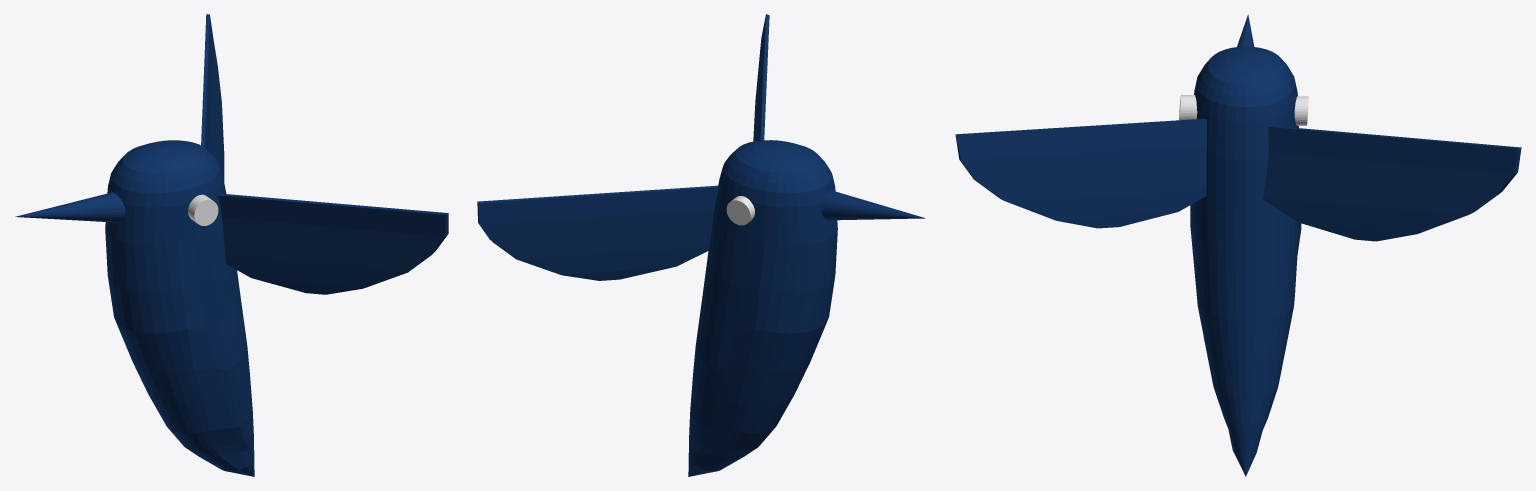
Rendered from flyblueblend.glb.
3 views of the same model, side by side, from view 1: azimuth 30°, elevation 25°; view 2: azimuth 150°, elevation 25°; view 3: azimuth 270°, elevation 25° (orthographic). The views are drawn at different scales.
Visible parts, largest first — view 1: Sphere, Cube, Cube.001, Cone, Cylinder.001; view 2: Sphere, Cube.001, Cone, Cube, Cylinder.001; view 3: Sphere, Cube.001, Cube, Cylinder.001.
Part boxes in pixels (bbox=[...]): Sphere: bbox=[105, 140, 254, 476]; Cube: bbox=[218, 193, 448, 294]; Cube.001: bbox=[201, 14, 224, 181]; Cone: bbox=[15, 192, 125, 222]; Cylinder.001: bbox=[188, 194, 218, 225]; Sphere: bbox=[688, 140, 837, 476]; Cube.001: bbox=[477, 185, 718, 280]; Cone: bbox=[821, 190, 925, 220]; Cube: bbox=[753, 14, 769, 141]; Cylinder.001: bbox=[726, 196, 754, 225]; Sphere: bbox=[1190, 46, 1301, 476]; Cube.001: bbox=[1263, 125, 1521, 241]; Cube: bbox=[955, 118, 1206, 228]; Cylinder.001: bbox=[1179, 94, 1308, 125].
Bounding box in the file's own units: 2.28 × 2.36 × 3.23.
